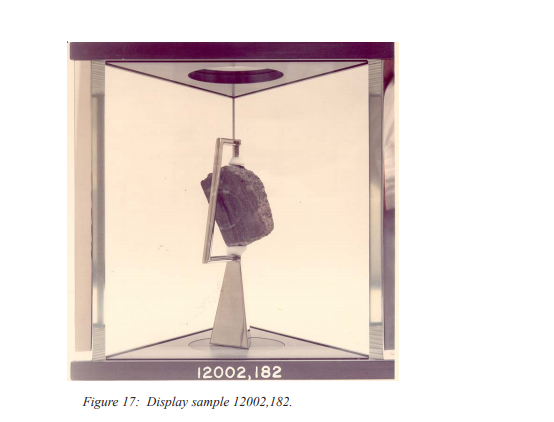Basalt: (196, 166, 286, 249)
